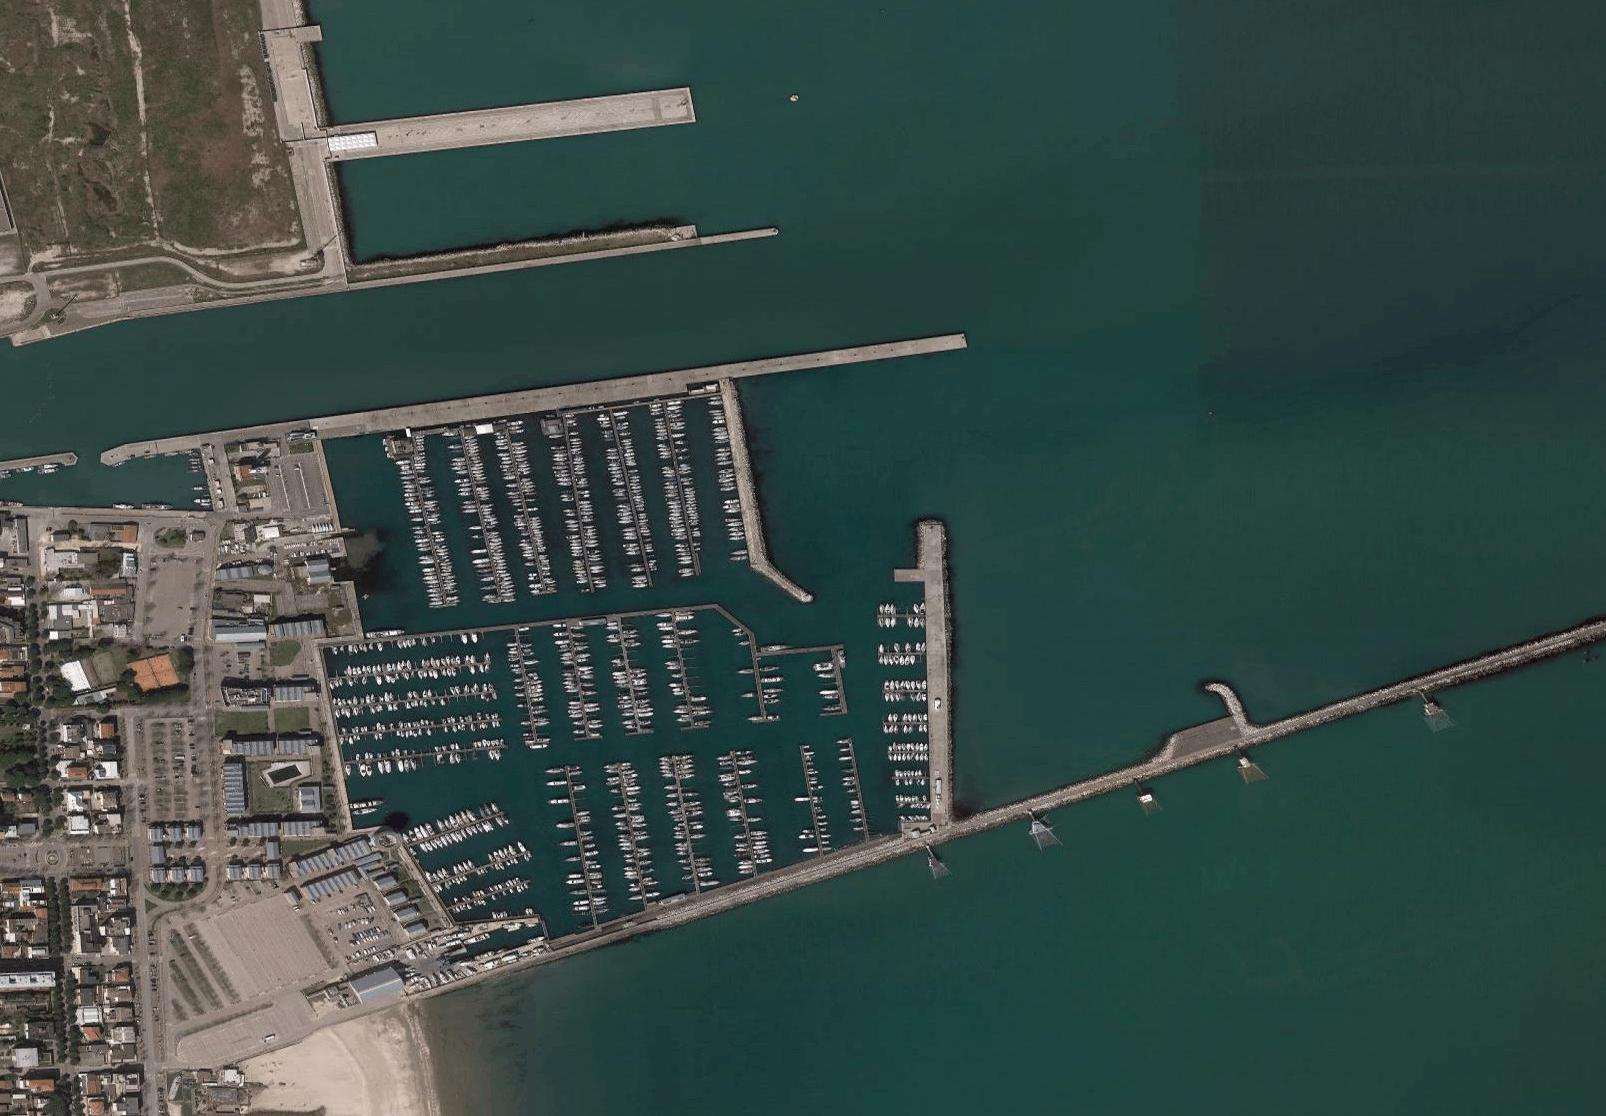harbor: (133, 319, 1183, 1024)
